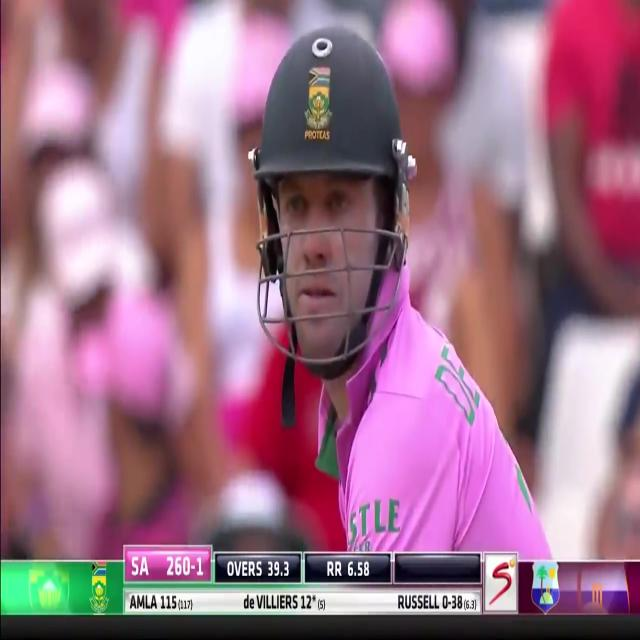Ball: (253, 15, 525, 556)
